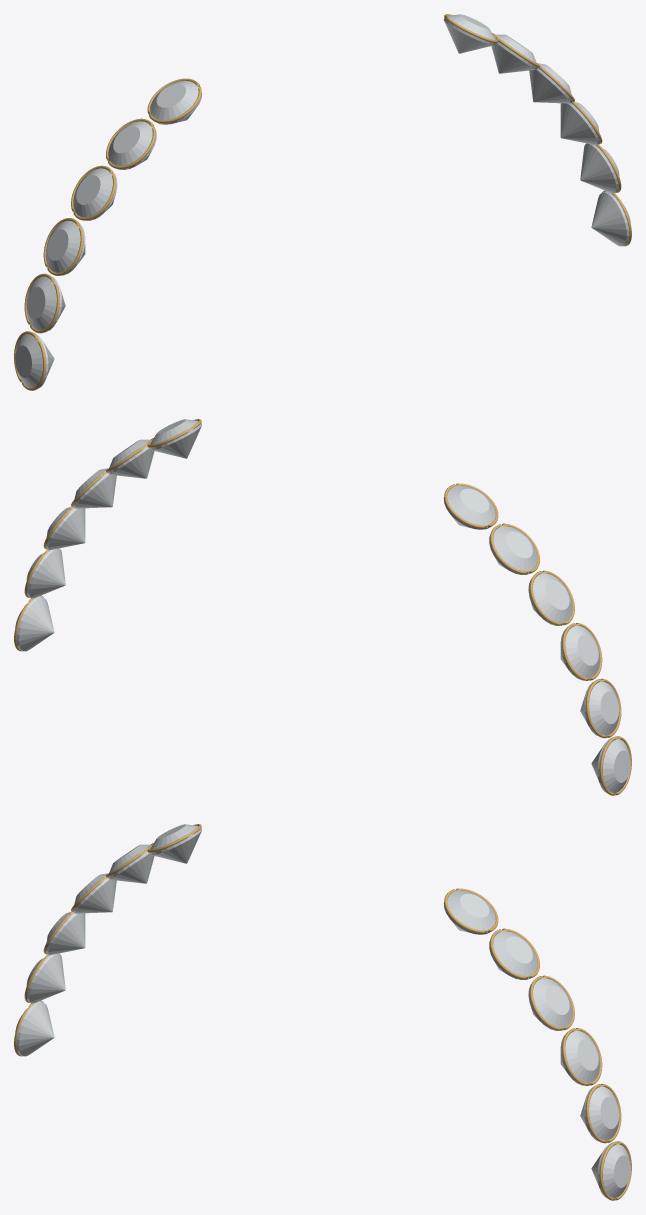
The model's file is accents-flush-accents.glb.
3 renders of one model, top to bottom at view 1: azimuth 30°, elevation 25°; view 2: azimuth 150°, elevation 25°; view 3: azimuth 330°, elevation 25°, orthographic.
Parts seen in each view (by area): view 1: Gem.001, Gem.002, Gem.003, Gem, Gem.004, Gem.011, Gem.005, Gem.010, Gem.009, Gem.006, Gem.008, Gem.007; view 2: Gem.001, Gem.002, Gem.003, Gem, Gem.004, Gem.011, Gem.005, Gem.010, Gem.009, Gem.006, Gem.008, Gem.007; view 3: Gem.007, Gem.008, Gem.009, Gem.006, Gem.010, Gem.005, Gem.011, Gem.004, Gem.003, Gem, Gem.002, Gem.001.
Part boxes in pixels (bbox=[...]): Gem.001: bbox=[108, 121, 156, 169]; Gem.002: bbox=[73, 168, 117, 220]; Gem.003: bbox=[45, 220, 85, 275]; Gem: bbox=[150, 80, 202, 124]; Gem.004: bbox=[26, 276, 65, 331]; Gem.011: bbox=[591, 191, 630, 246]; Gem.005: bbox=[15, 332, 54, 387]; Gem.010: bbox=[580, 143, 619, 193]; Gem.009: bbox=[560, 101, 599, 145]; Gem.006: bbox=[444, 14, 495, 53]; Gem.008: bbox=[529, 63, 572, 103]; Gem.007: bbox=[491, 34, 537, 73]; Gem.001: bbox=[489, 526, 537, 574]; Gem.002: bbox=[528, 573, 572, 625]; Gem.003: bbox=[560, 625, 600, 680]; Gem: bbox=[443, 485, 495, 529]; Gem.004: bbox=[580, 681, 619, 736]; Gem.011: bbox=[15, 596, 54, 651]; Gem.005: bbox=[591, 737, 630, 793]; Gem.010: bbox=[26, 548, 65, 598]; Gem.009: bbox=[46, 506, 85, 550]; Gem.006: bbox=[150, 419, 201, 458]; Gem.008: bbox=[73, 468, 116, 508]; Gem.007: bbox=[108, 439, 154, 478]; Gem.007: bbox=[489, 931, 537, 979]; Gem.008: bbox=[528, 978, 572, 1030]; Gem.009: bbox=[560, 1030, 600, 1085]; Gem.006: bbox=[443, 890, 495, 934]; Gem.010: bbox=[580, 1086, 619, 1141]; Gem.005: bbox=[15, 1001, 54, 1056]; Gem.011: bbox=[591, 1142, 630, 1198]; Gem.004: bbox=[26, 953, 65, 1003]; Gem.003: bbox=[46, 911, 85, 955]; Gem: bbox=[150, 824, 201, 863]; Gem.002: bbox=[73, 873, 116, 913]; Gem.001: bbox=[108, 844, 154, 883].
Size of the model in its own units: 19.62 by 8.28 by 1.69.
